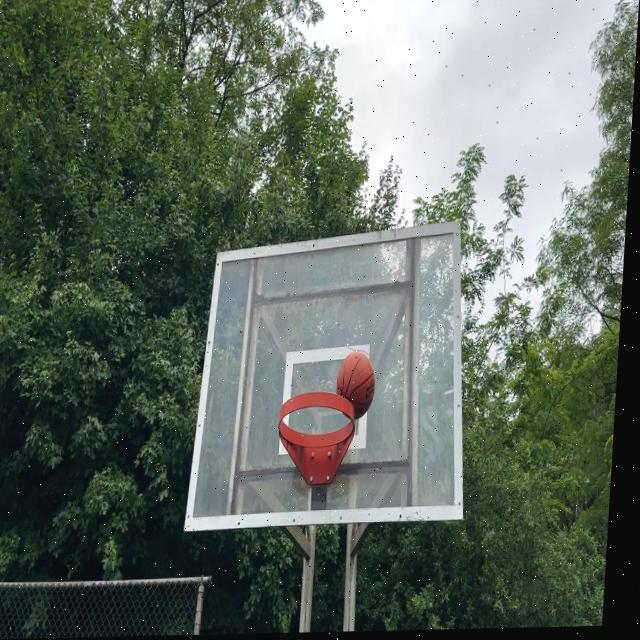rebound_hit: (334, 347, 378, 422)
